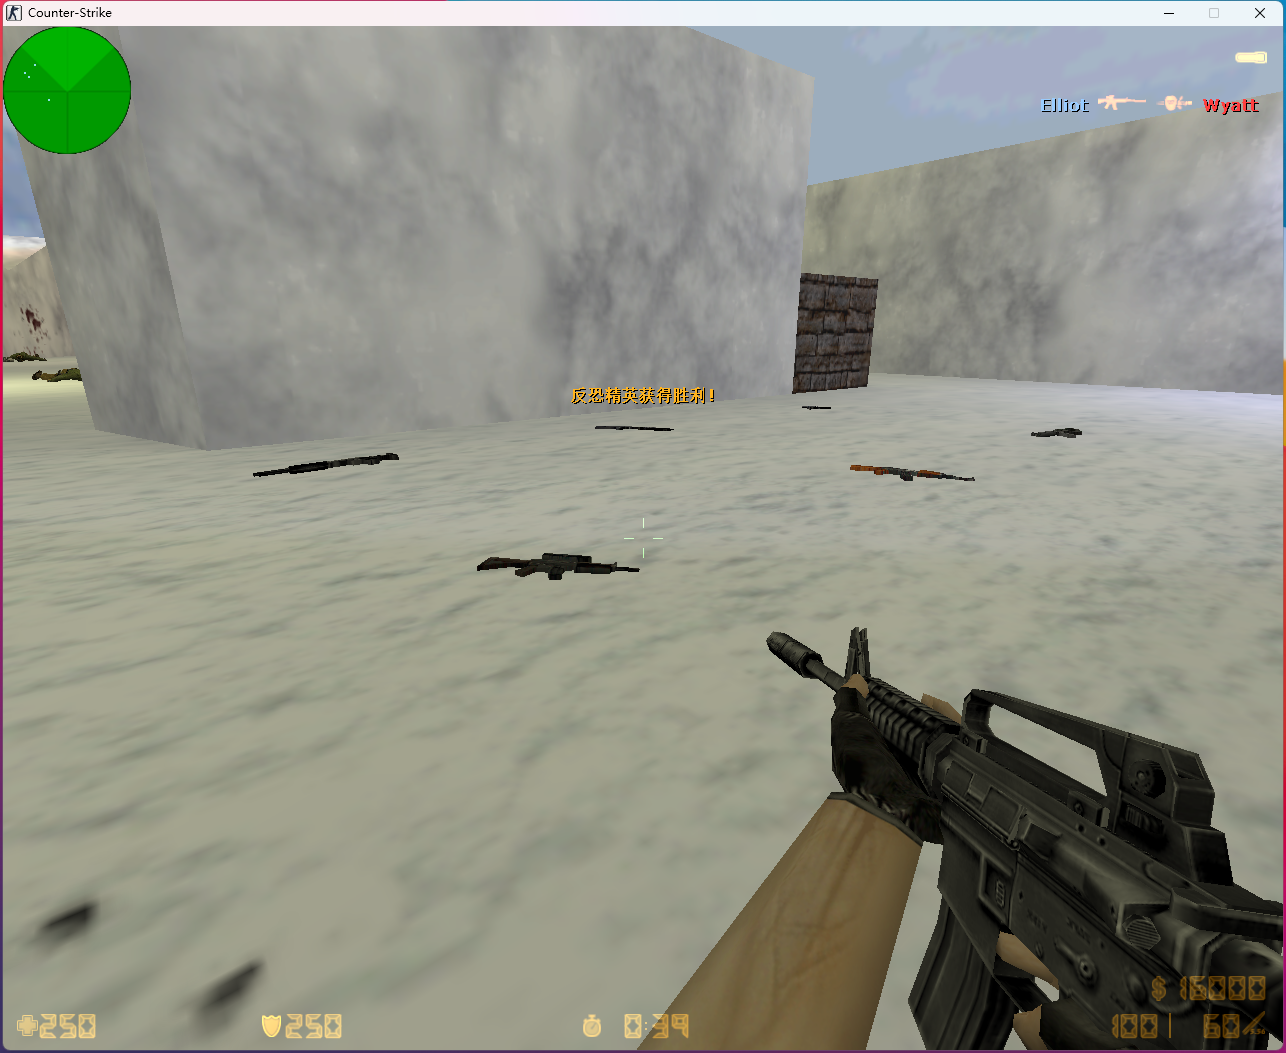dead: (30, 365, 87, 386), (3, 350, 52, 365)
weapon: (472, 550, 639, 583), (244, 451, 402, 481), (847, 460, 974, 486), (593, 422, 675, 435), (1019, 427, 1087, 439), (798, 405, 831, 413)
